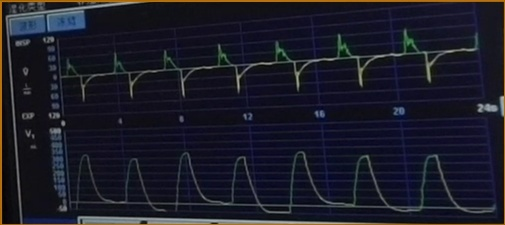Accumulation Flow: (64, 30, 475, 102)
Volume: (71, 148, 492, 217)
